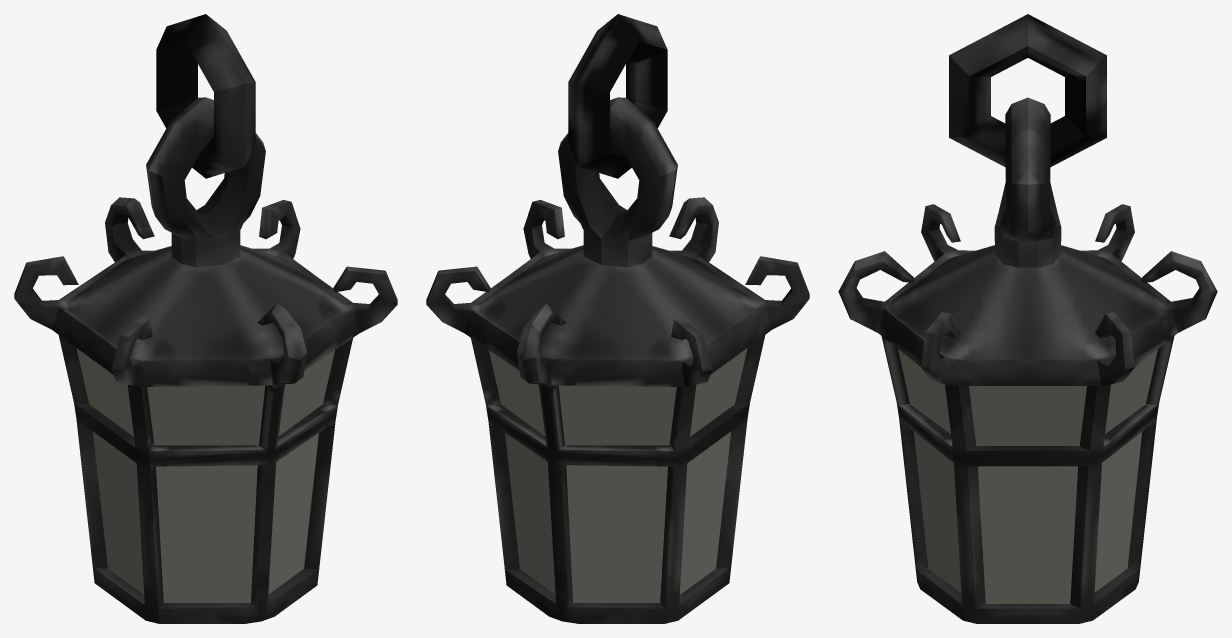
The model's file is Lantern.fbx.
The picture shows the model from 3 angles, left to right: view 1: azimuth 30°, elevation 25°; view 2: azimuth 150°, elevation 25°; view 3: azimuth 270°, elevation 25°; orthographic projection.
Visible parts, largest first — view 1: Lantern; view 2: Lantern; view 3: Lantern.
Part boxes in pixels (box(x1,y1,x2,y2)): Lantern: box(14, 14, 397, 623); Lantern: box(426, 14, 809, 623); Lantern: box(838, 14, 1217, 623).
Bounding box in the file's own units: 102 × 194 × 117.
